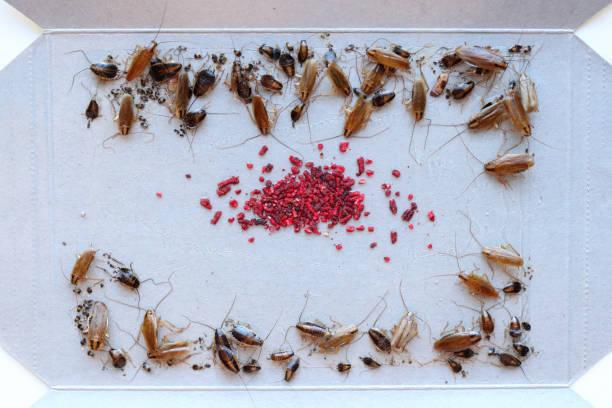cockroach: (430, 213, 538, 279), (435, 37, 550, 95), (172, 300, 244, 381), (99, 249, 180, 310), (495, 51, 566, 119), (98, 87, 159, 163), (415, 108, 506, 157), (467, 149, 547, 199), (314, 298, 374, 364), (55, 296, 117, 359), (290, 55, 329, 155), (394, 67, 439, 152), (114, 296, 178, 355), (330, 305, 395, 359), (240, 91, 286, 167), (310, 44, 367, 105), (348, 33, 420, 81), (428, 256, 501, 303), (123, 15, 165, 87), (52, 238, 106, 294), (488, 86, 538, 145), (219, 41, 262, 108), (394, 288, 431, 363), (424, 322, 493, 362), (59, 53, 121, 97), (224, 313, 287, 356), (336, 93, 379, 155), (187, 51, 226, 115), (137, 334, 196, 373), (272, 301, 329, 341), (437, 77, 490, 117), (165, 62, 196, 129), (266, 43, 308, 88), (246, 63, 291, 105), (348, 55, 392, 97), (480, 274, 537, 301), (241, 30, 284, 65), (329, 355, 374, 384), (77, 81, 105, 127), (499, 307, 528, 345), (269, 361, 314, 385), (287, 38, 314, 72), (255, 342, 301, 360), (238, 357, 261, 382)
